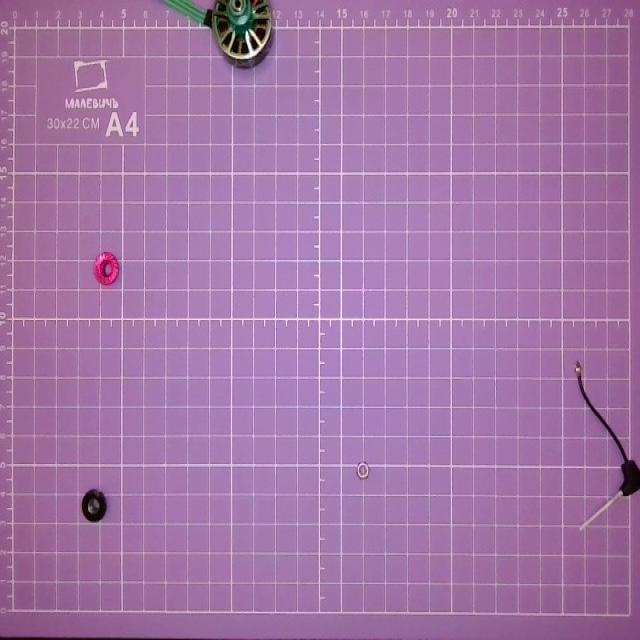antenna: (568, 352, 640, 555)
motor: (162, 0, 277, 75)
screw_M3: (352, 459, 370, 484)
screw_M5: (91, 241, 122, 304), (80, 479, 114, 530)
